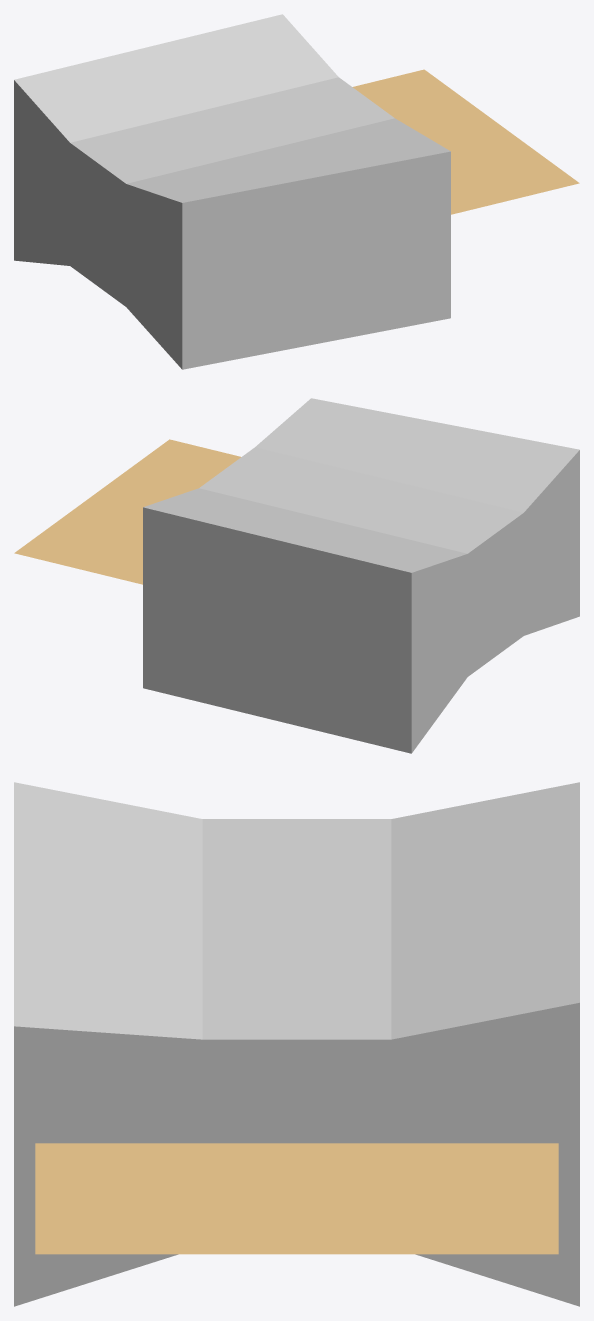
The model's file is paper.glb.
The picture shows the model from 3 angles, top to bottom: view 1: azimuth 30°, elevation 25°; view 2: azimuth 150°, elevation 25°; view 3: azimuth 270°, elevation 25°; orthographic projection. The views are drawn at different scales.
Parts seen in each view (by area): view 1: Cube, Plane; view 2: Cube, Plane; view 3: Cube, Plane.
Boxes of the visible parts, x1,y1,x2,y2 form: Cube: (14,14,450,369); Plane: (352,69,579,214); Cube: (143,398,579,753); Plane: (14,439,240,584); Cube: (14,782,579,1306); Plane: (35,1143,558,1254).
Bounding box in the file's own units: 14.8 × 6.33 × 10.68.
